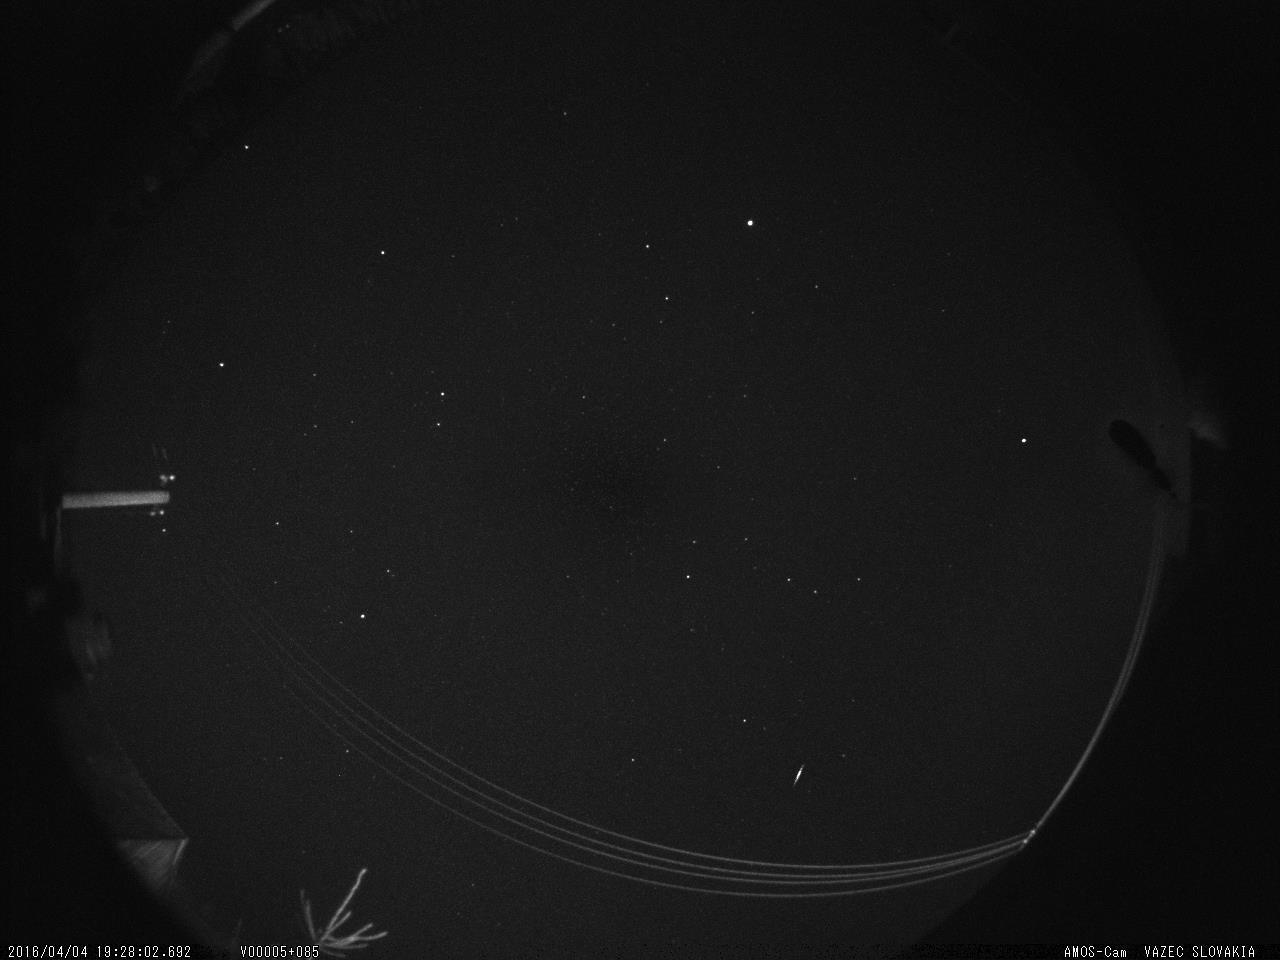Meteor: (786, 757, 812, 796)
